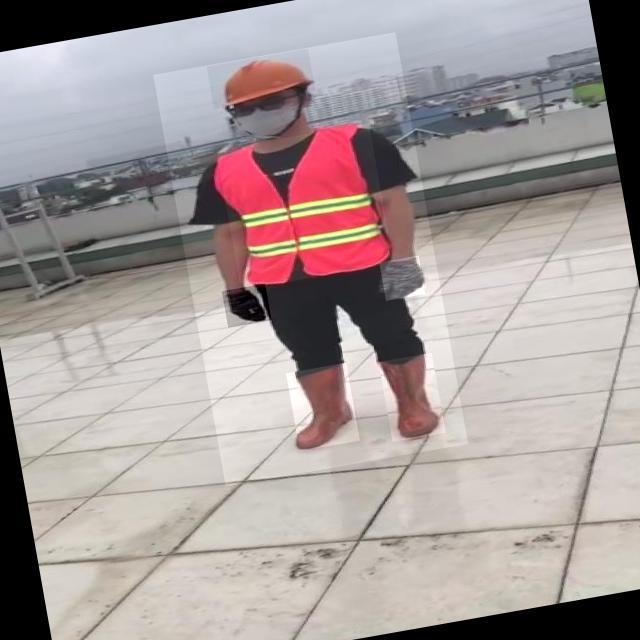Gloves: (222, 283, 272, 327), (379, 255, 425, 300)
Helmet: (206, 48, 315, 108)
Human: (153, 32, 468, 486)
Safety Boot: (286, 362, 361, 451), (379, 353, 446, 443)
Safety Vest: (216, 123, 393, 290)
